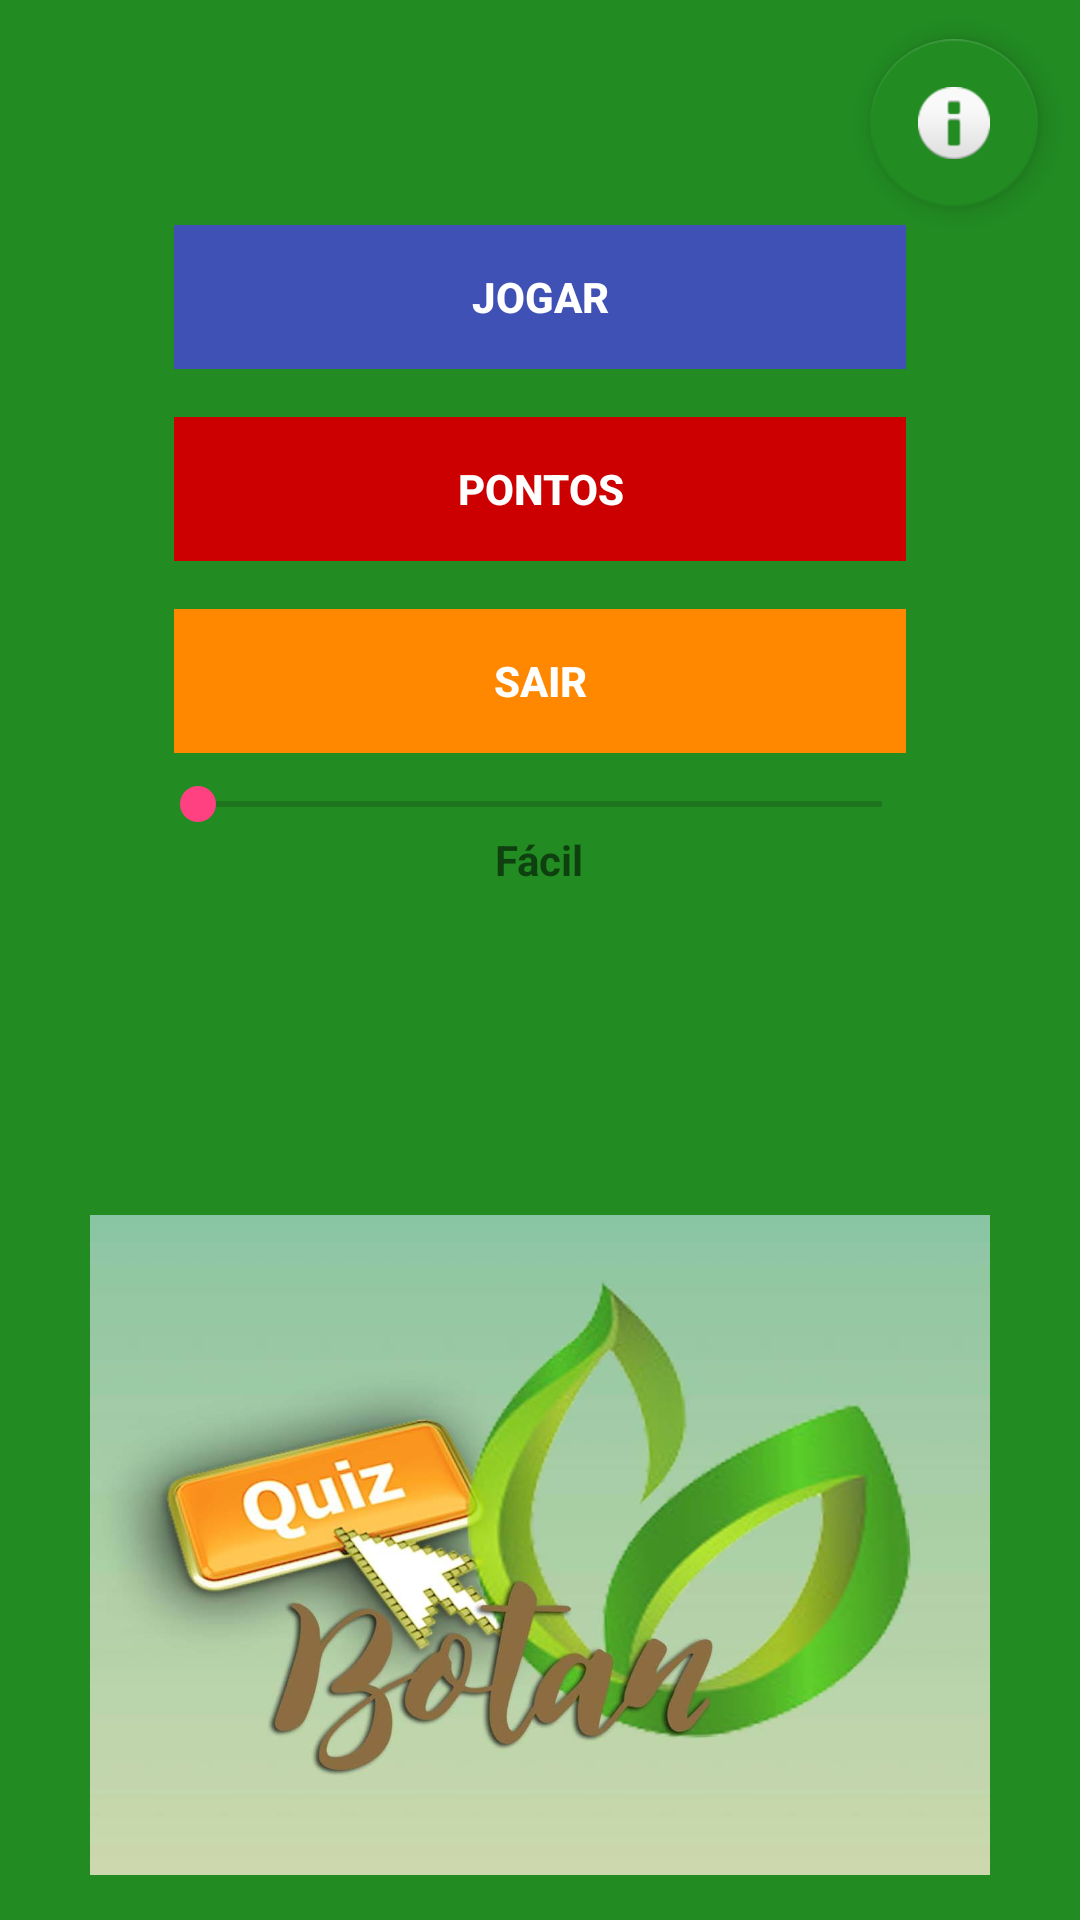

Screen size 1080×1920. Icon name, then its box in pixels as (x1, y1, x2, y2):
info: (918, 39, 990, 159)
